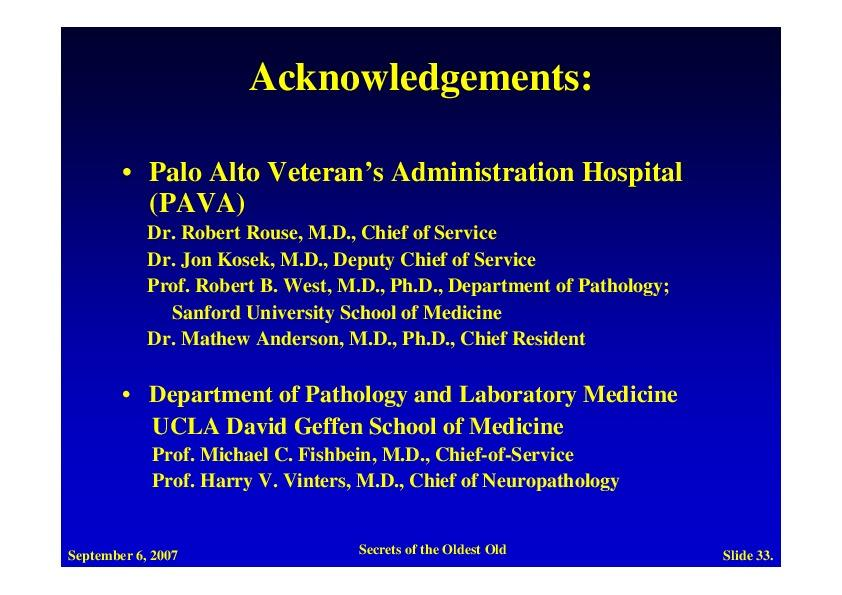paragraph: (142, 140, 708, 507)
title: (234, 48, 613, 104)
